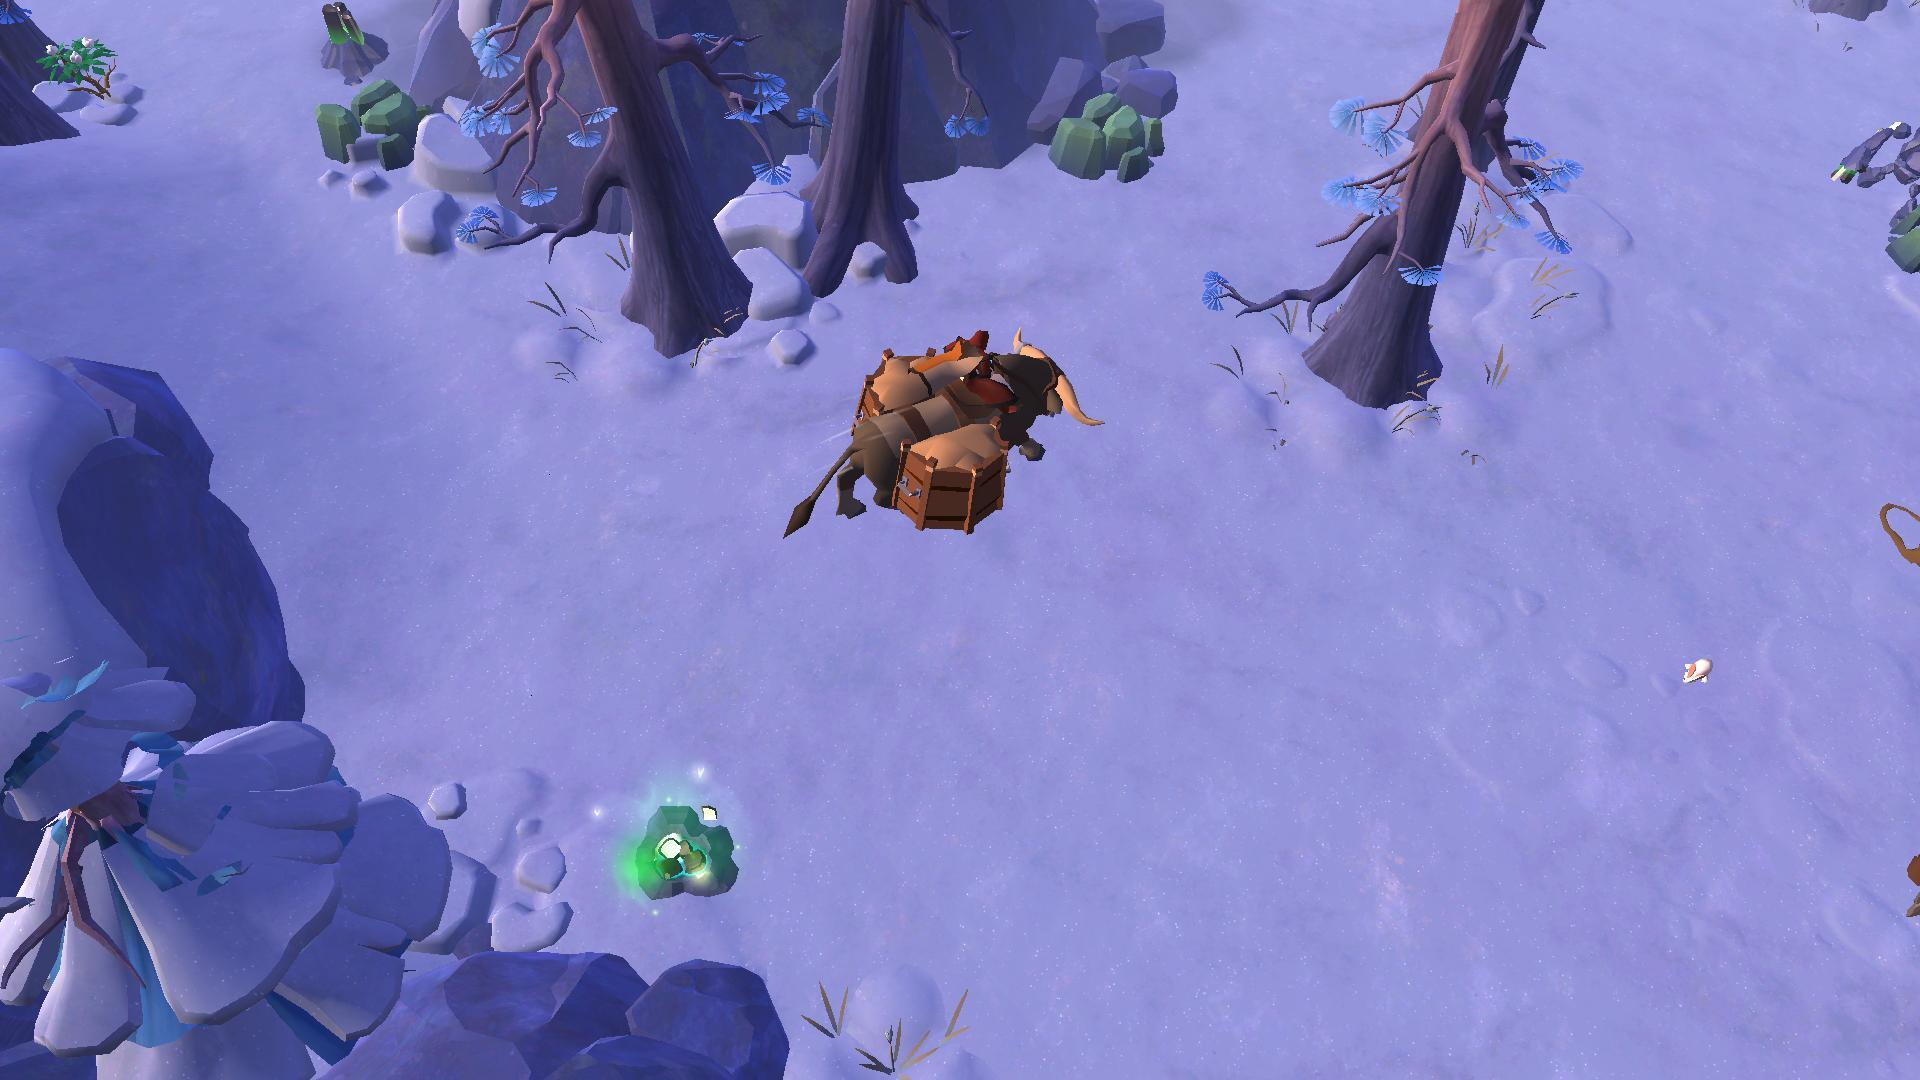fiber_t3: (34, 32, 119, 105)
ore_t3: (318, 0, 369, 51)
rock_t3: (305, 73, 440, 167), (1050, 83, 1174, 185)
